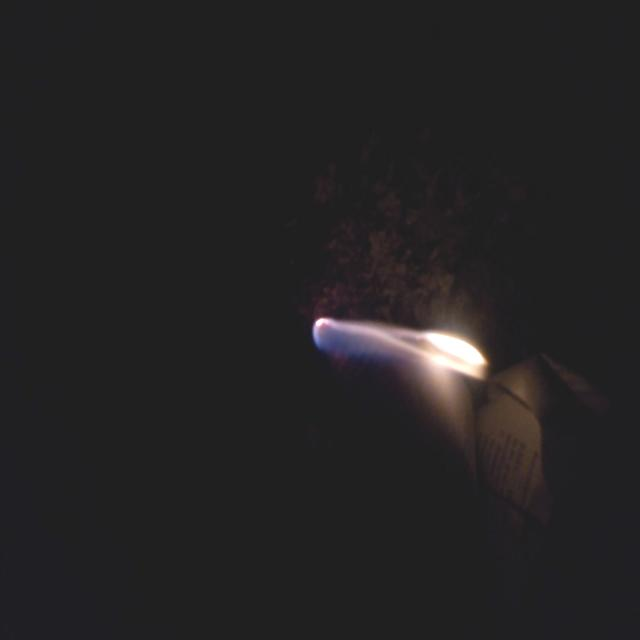firerotation: (310, 311, 492, 384)
